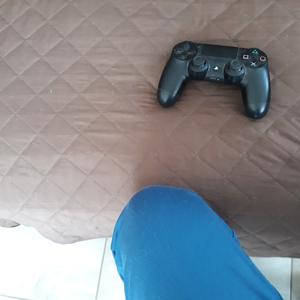controller: (157, 40, 272, 120)
